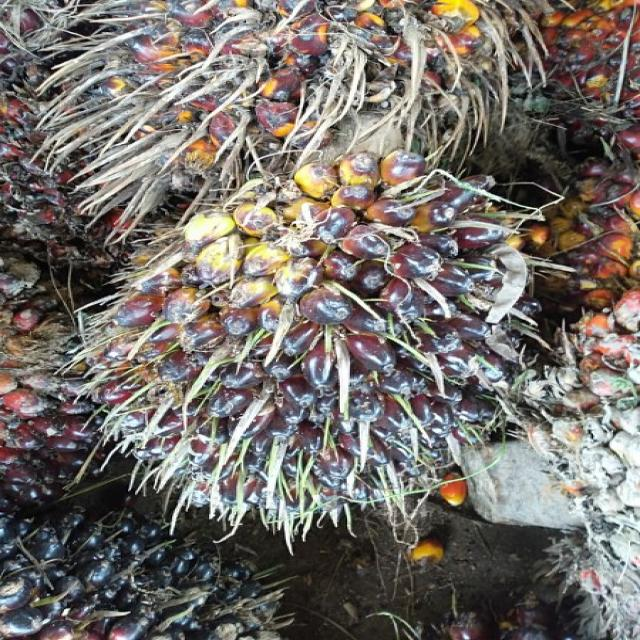fraksi 00: (74, 136, 538, 528)
